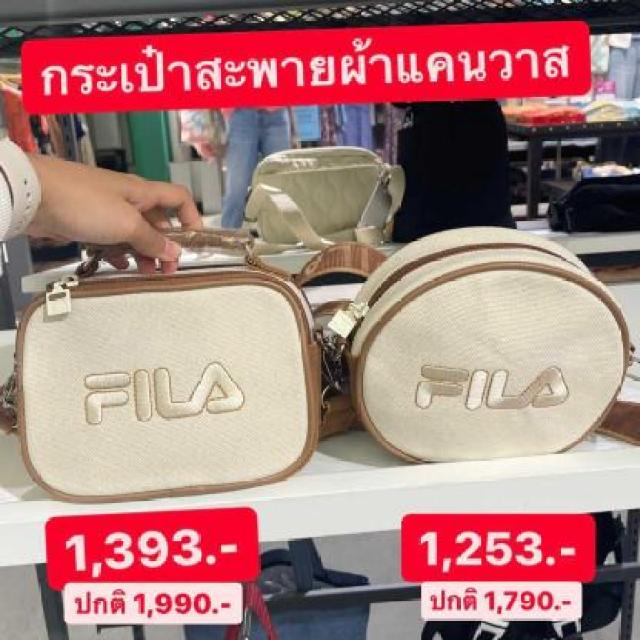Bag: (0, 157, 342, 509), (332, 216, 640, 476), (234, 120, 431, 254)
